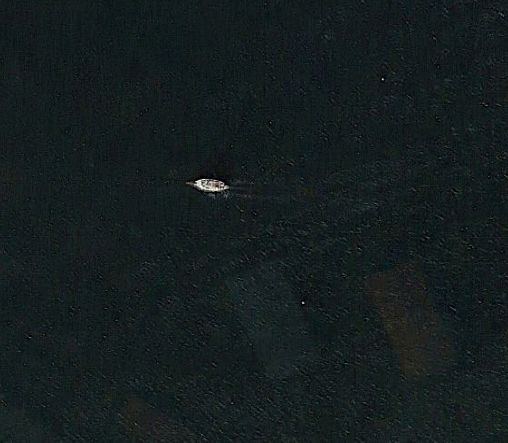boat: (186, 174, 232, 196)
